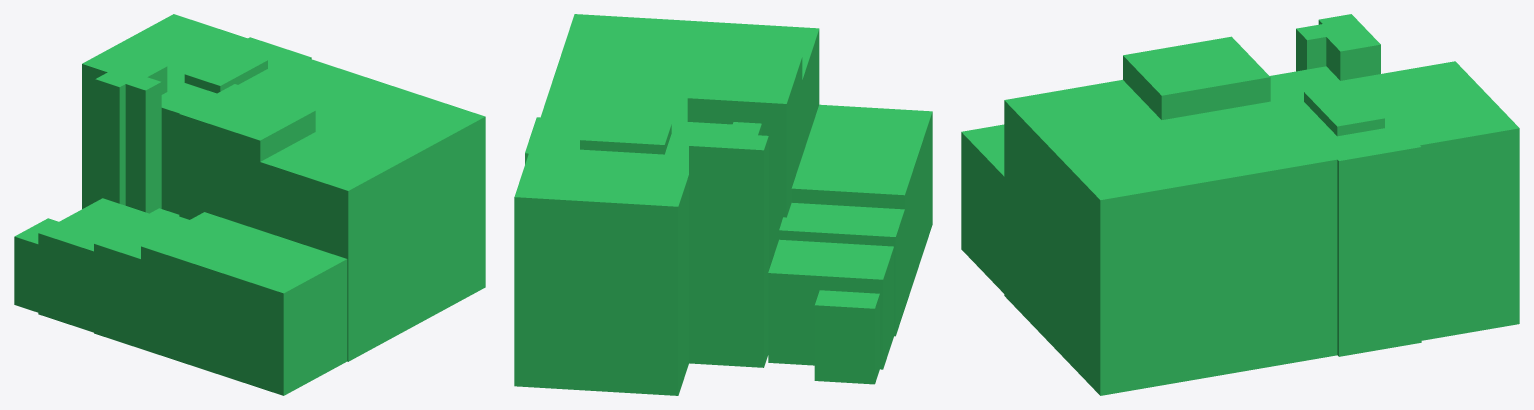
File: building1.glb
3 renders of one model, left to right at view 1: azimuth 30°, elevation 25°; view 2: azimuth 150°, elevation 25°; view 3: azimuth 270°, elevation 25°, orthographic. The views are drawn at different scales.
Parts seen in each view (by area): view 1: building1; view 2: building1; view 3: building1.
Boxes of the visible parts, box(x1,y1,x2,y2) form: building1: box(14, 14, 485, 395); building1: box(514, 14, 932, 395); building1: box(961, 14, 1519, 395).
Bounding box in the file's own units: 45.47 × 23 × 51.72.
